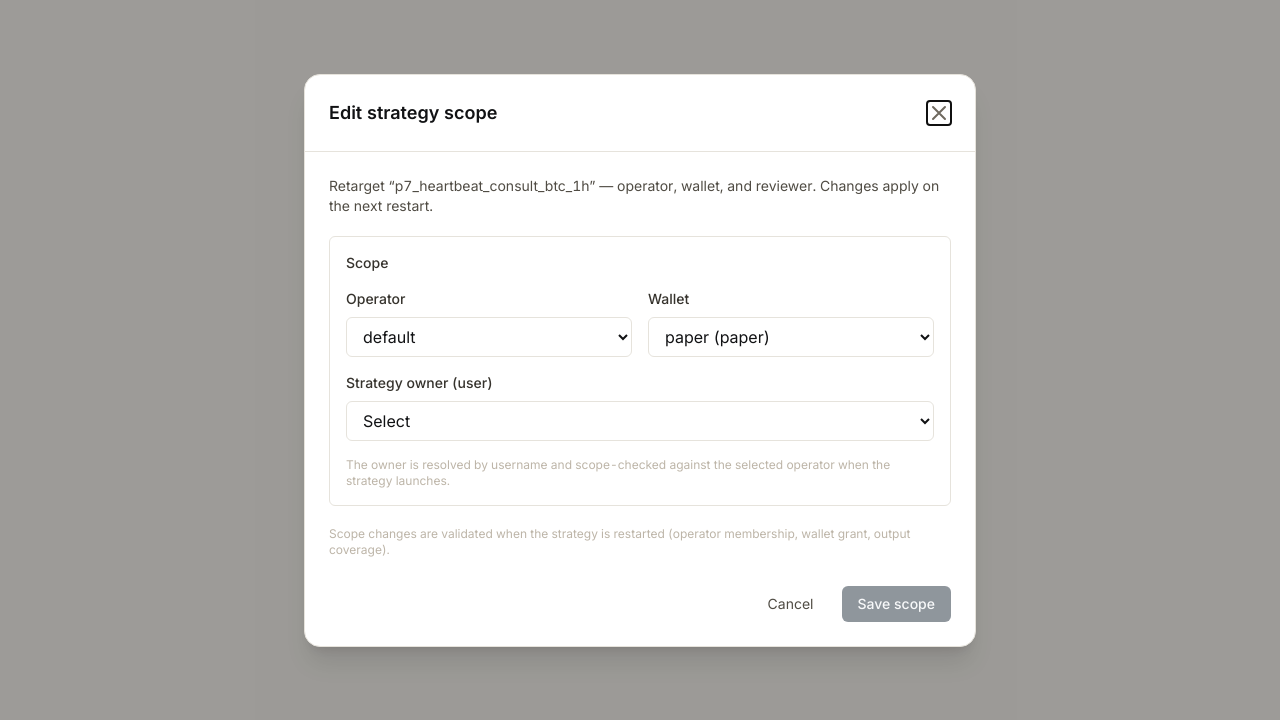
Scenario: StrategyScopeEditModal › disables save until every reference field is filled
Expected: the button "Save scope" is disabled, [842,586,951,622]
Select "bob" in the dropdown labelled "Strategy owner (user)" at (640, 420), box [346,400,934,440]
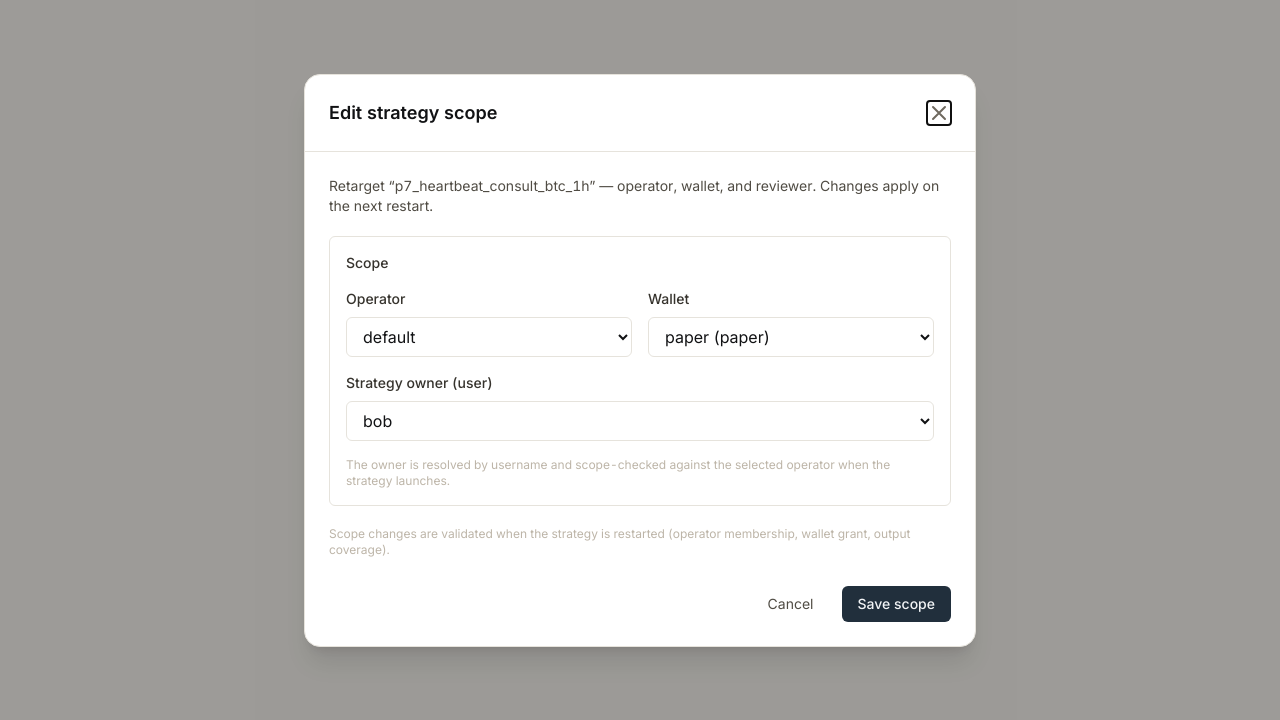
Result: the button "Save scope" is enabled at [842,586,951,622]
